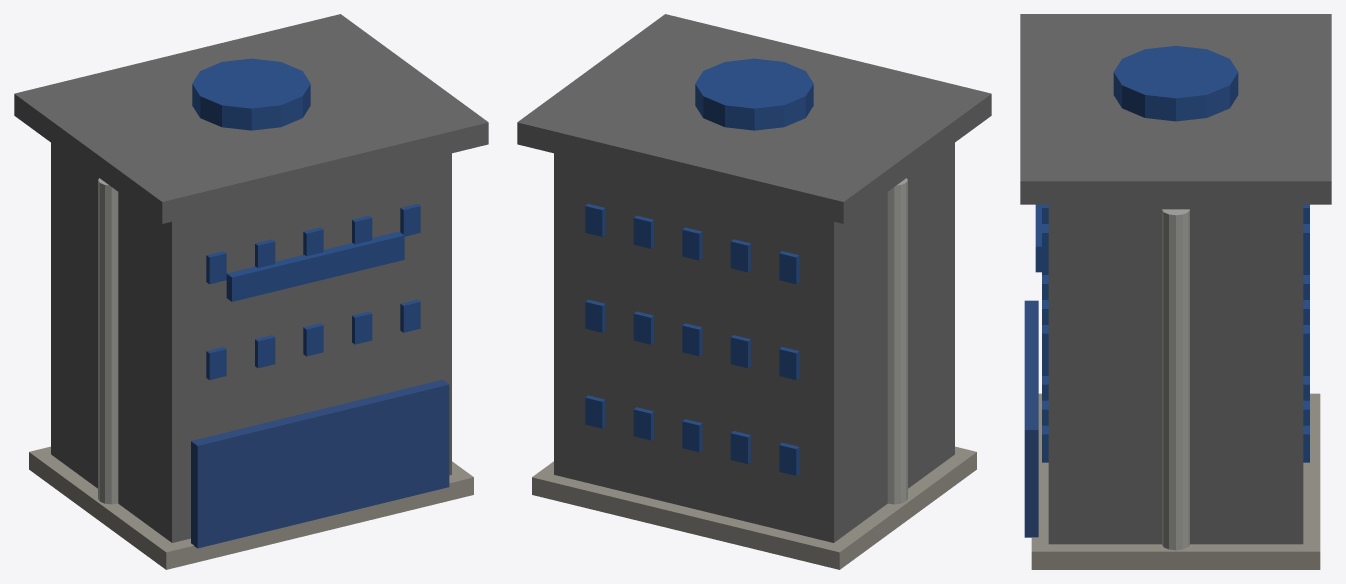
File: bld_commercial_a08.glb
The picture shows the model from 3 angles, left to right: view 1: azimuth 30°, elevation 25°; view 2: azimuth 150°, elevation 25°; view 3: azimuth 270°, elevation 25°; orthographic projection. The views are drawn at different scales.
Visible parts, largest first — view 1: body; view 2: body; view 3: body.
Part boxes in pixels (x1=…): body: x1=14, y1=14, x2=488, y2=569; body: x1=517, y1=14, x2=991, y2=569; body: x1=1020, y1=14, x2=1331, y2=569.
Size of what is drawn, in the model's own units: 7 by 8.16 by 5.5.
